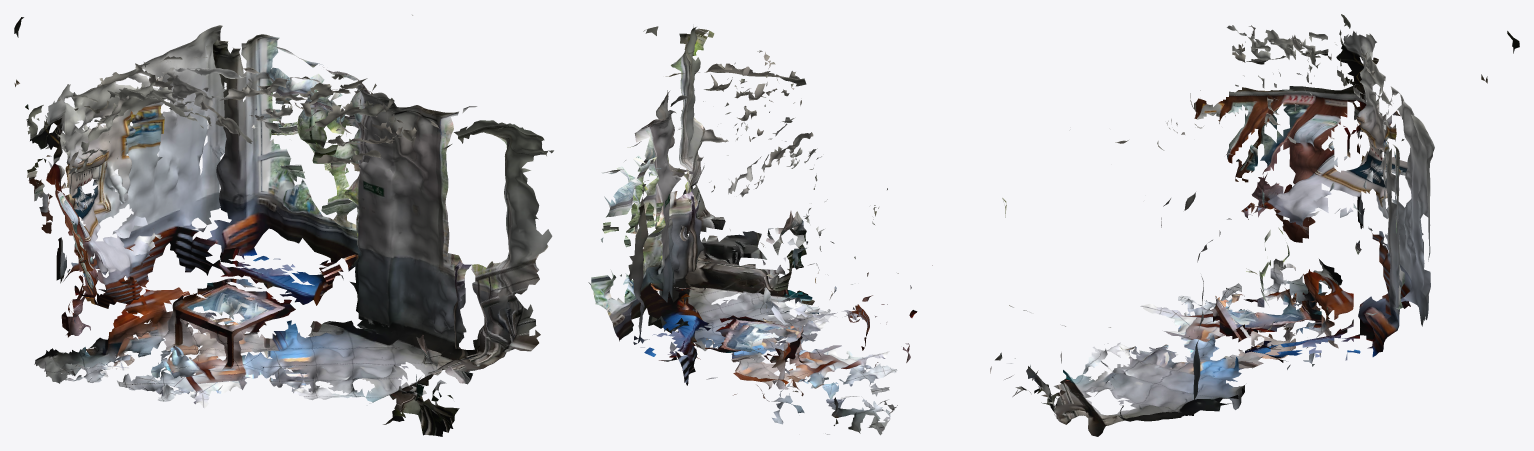
The model's file is 121032-TanggaBelokan2-tex.glb.
3 views of the same model, side by side, from view 1: azimuth 30°, elevation 25°; view 2: azimuth 150°, elevation 25°; view 3: azimuth 270°, elevation 25° (orthographic). The views are drawn at different scales.
Parts seen in each view (by area): view 1: Node; view 2: Node; view 3: Node.
Part boxes in pixels (bbox=[...]): Node: bbox=[14, 15, 553, 436]; Node: bbox=[588, 26, 932, 435]; Node: bbox=[990, 14, 1519, 436].
Bounding box in the file's own units: 8.86 × 7.64 × 10.28.
7 materials, 7 textured.
